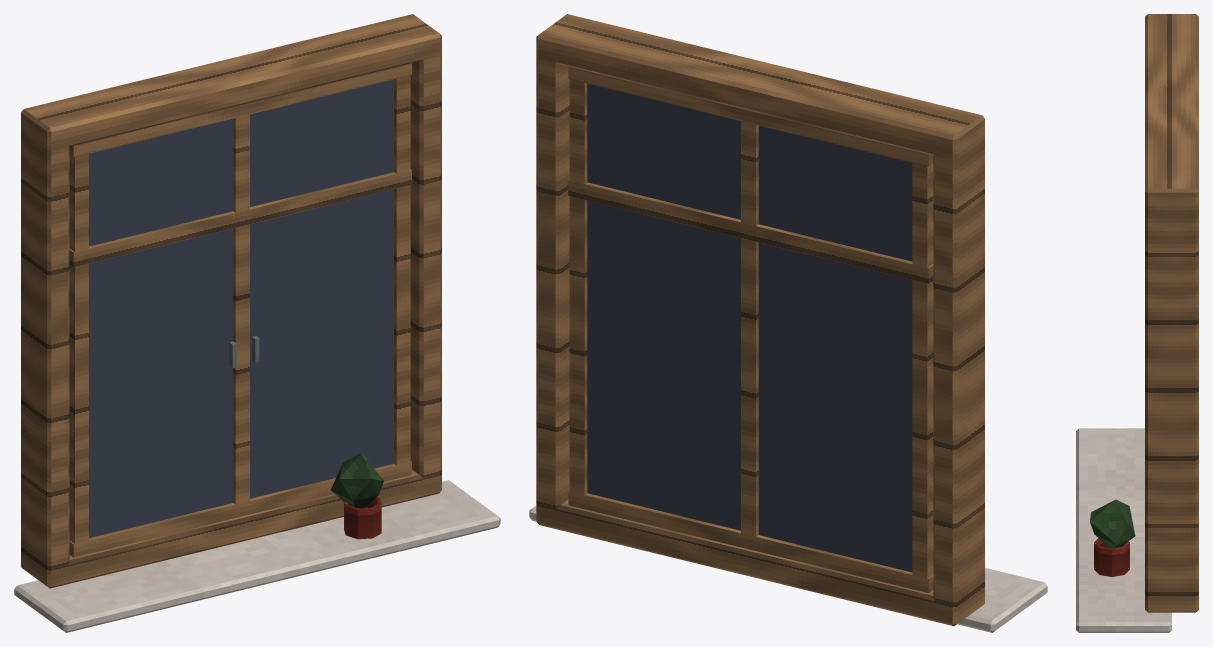
Rendered from window_frame.glb.
The picture shows the model from 3 angles, left to right: view 1: azimuth 30°, elevation 25°; view 2: azimuth 150°, elevation 25°; view 3: azimuth 270°, elevation 25°; orthographic projection. The views are drawn at different scales.
Visible parts, largest first — view 1: window_frame; view 2: window_frame; view 3: window_frame.
Part boxes in pixels (x1,y1,x2,y2): window_frame: (14, 14, 500, 632); window_frame: (529, 14, 1047, 632); window_frame: (1076, 14, 1198, 632).
Bounding box in the file's own units: 1.55 × 1.6 × 0.41.
Materials: 6 (5 with a texture image).
